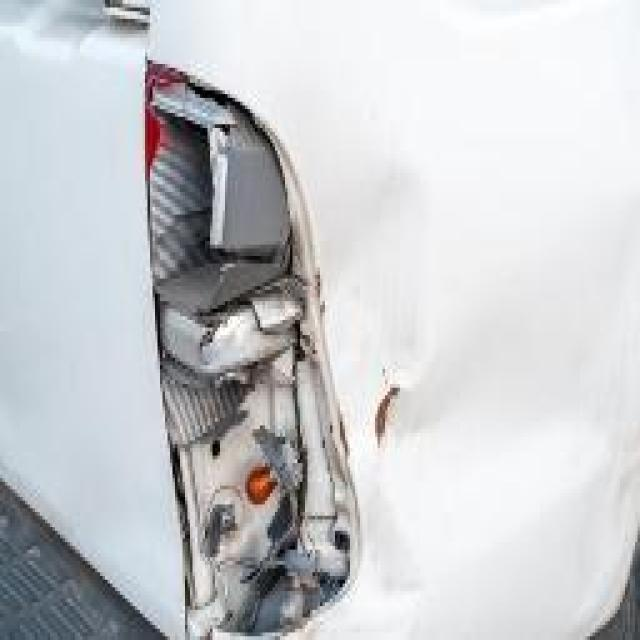Light: (153, 61, 360, 631)
